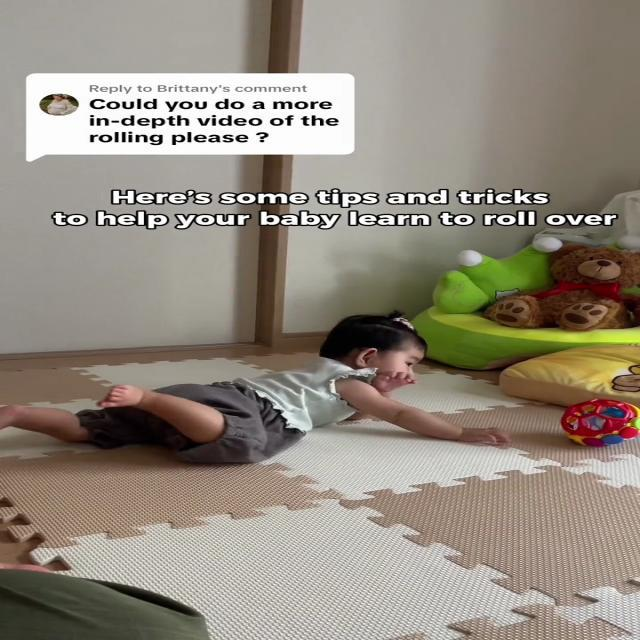baby: (0, 311, 537, 489)
